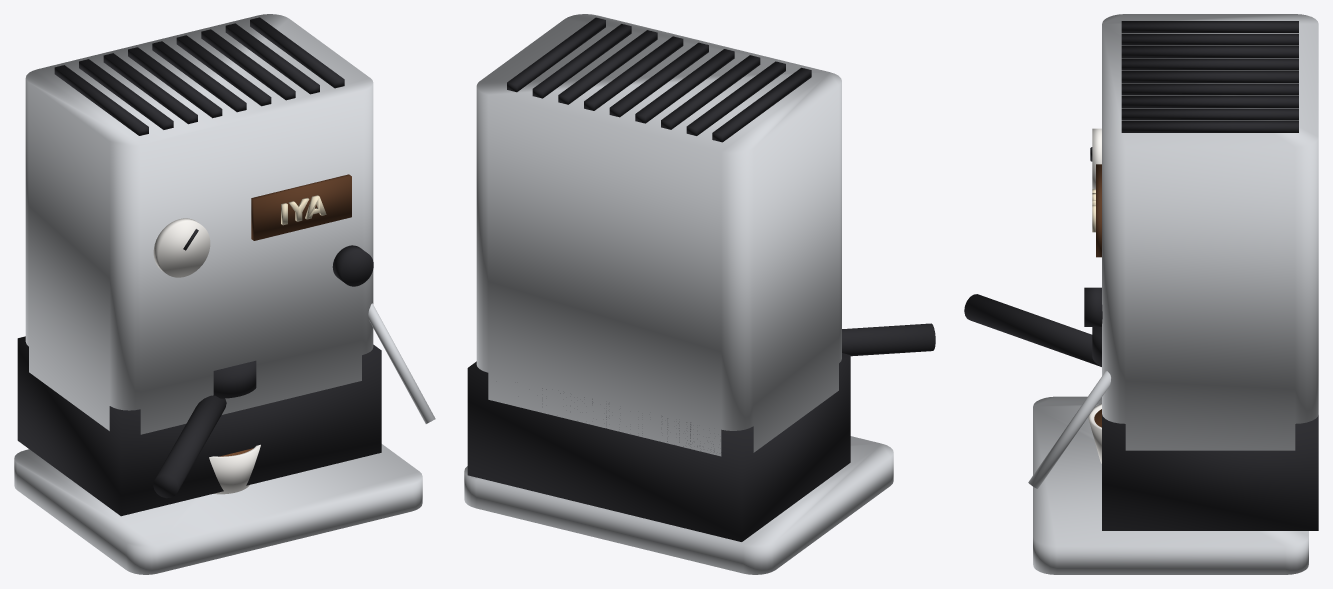
The model's file is espresso-machine.glb.
3 renders of one model, left to right at view 1: azimuth 30°, elevation 25°; view 2: azimuth 150°, elevation 25°; view 3: azimuth 270°, elevation 25°, orthographic. The views are drawn at different scales.
Visible parts, largest first — view 1: part0, part2, part12, part14, part19, part15; view 2: part0, part2; view 3: part0, part2, part19, part12, part14.
Boxes of the visible parts, x1,y1,x2,y2 form: part0: [14, 14, 422, 574]; part2: [17, 17, 381, 516]; part12: [153, 218, 260, 494]; part14: [251, 174, 351, 240]; part19: [368, 303, 435, 423]; part15: [281, 195, 326, 225]; part0: [464, 14, 893, 574]; part2: [467, 17, 935, 541]; part0: [1033, 14, 1318, 574]; part2: [964, 21, 1318, 530]; part19: [1028, 371, 1110, 488]; part12: [1088, 128, 1101, 463]; part14: [1096, 164, 1101, 257].
Bounding box in the file's own units: 0.7859 × 1 × 0.7529.
